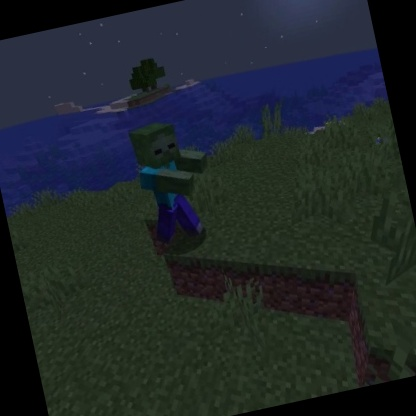zombie: (123, 110, 226, 252)
